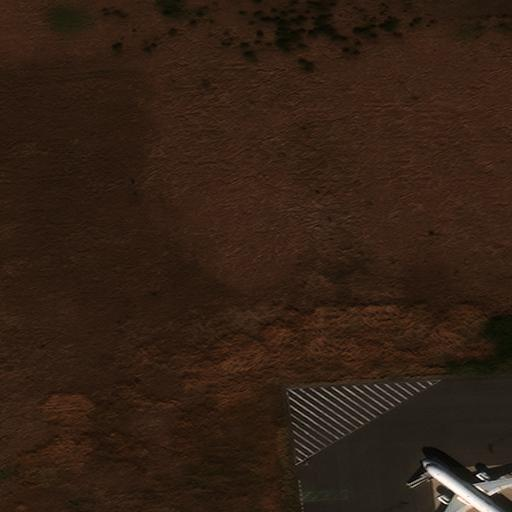Medium Civil Transport: (422, 460, 512, 511)
